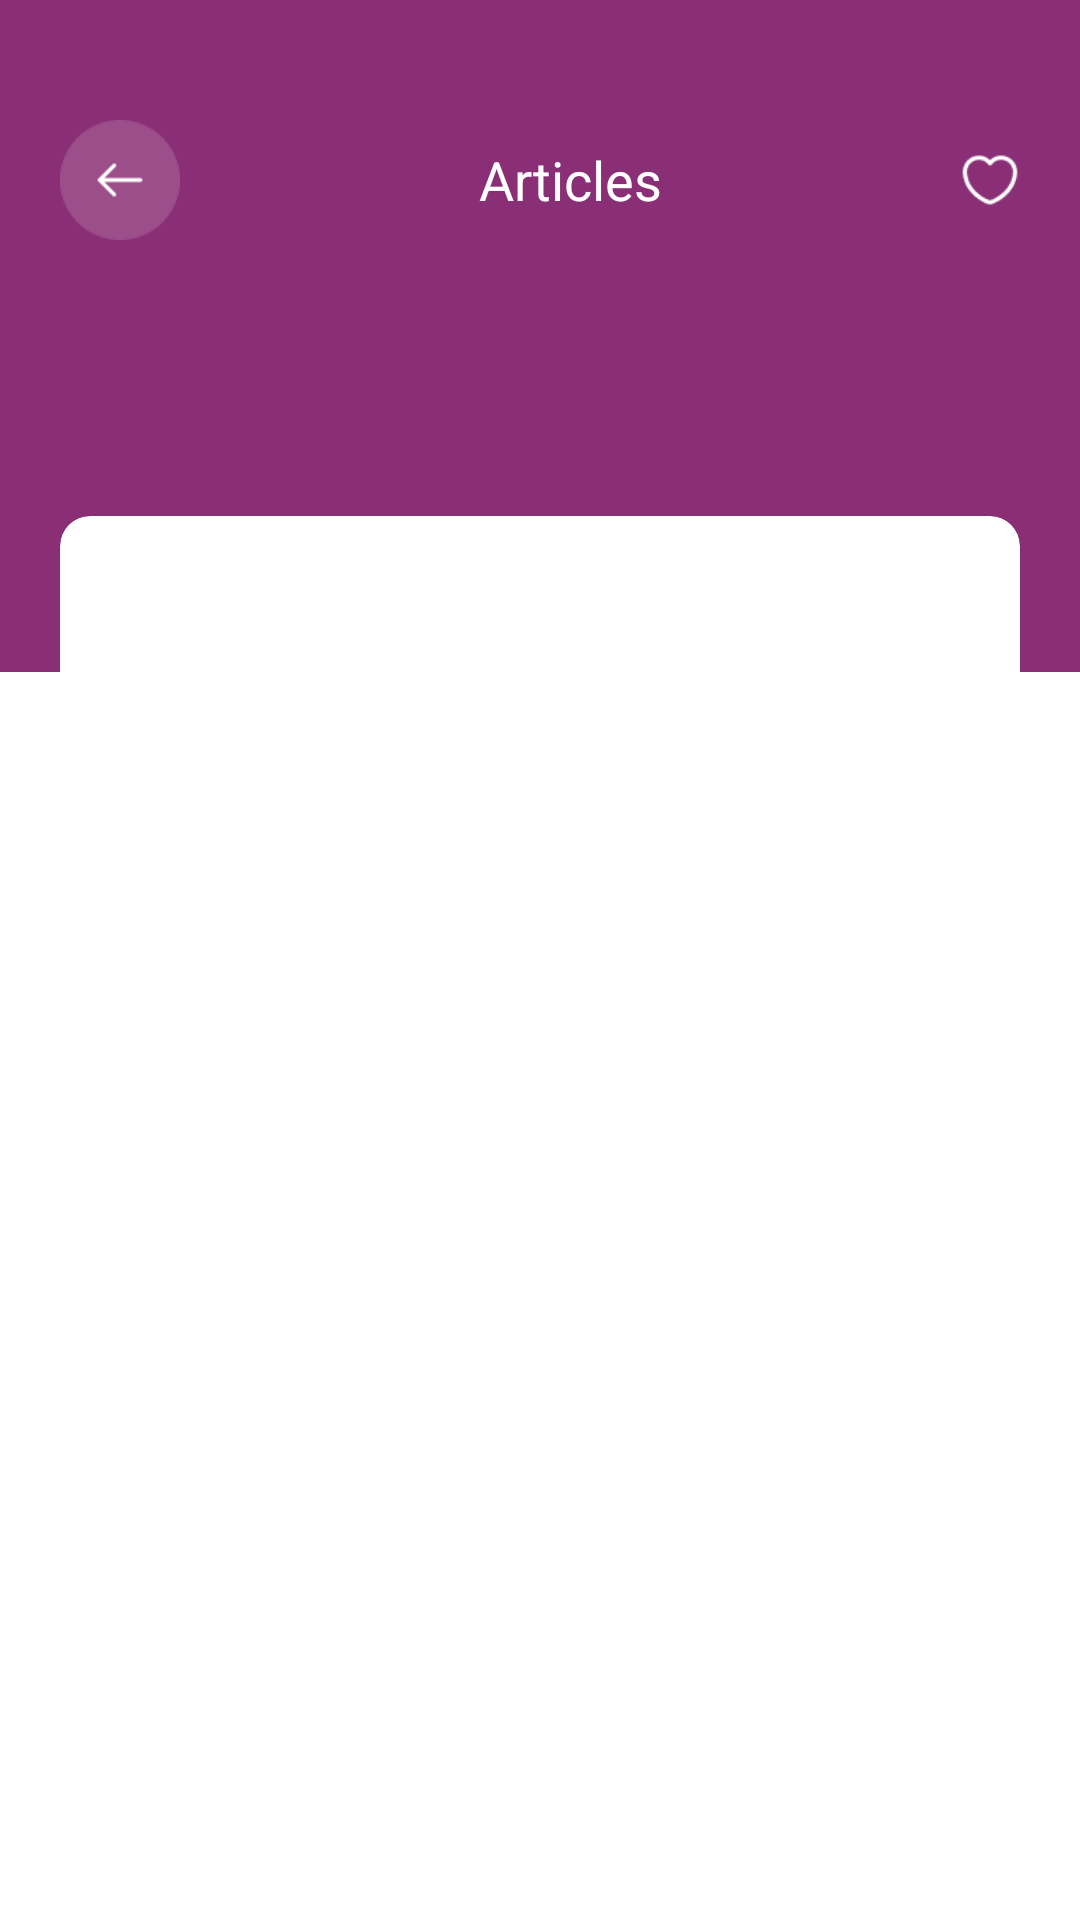

Where to tap for icons on this 1080x1920 app screen, as (x=x, y=y):
back: (x=120, y=180)
heart: (x=990, y=180)
